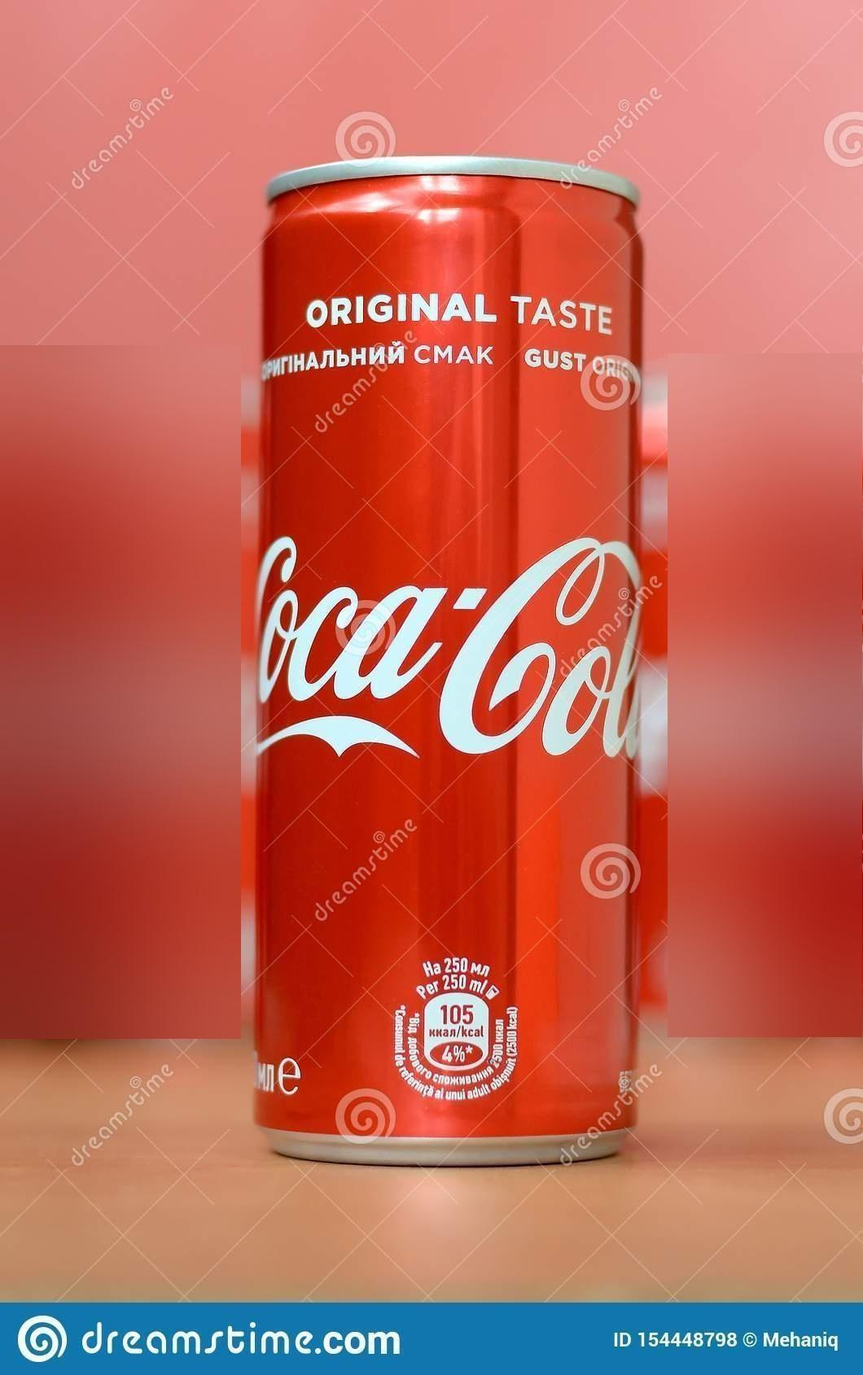tin can: (250, 160, 651, 1180)
